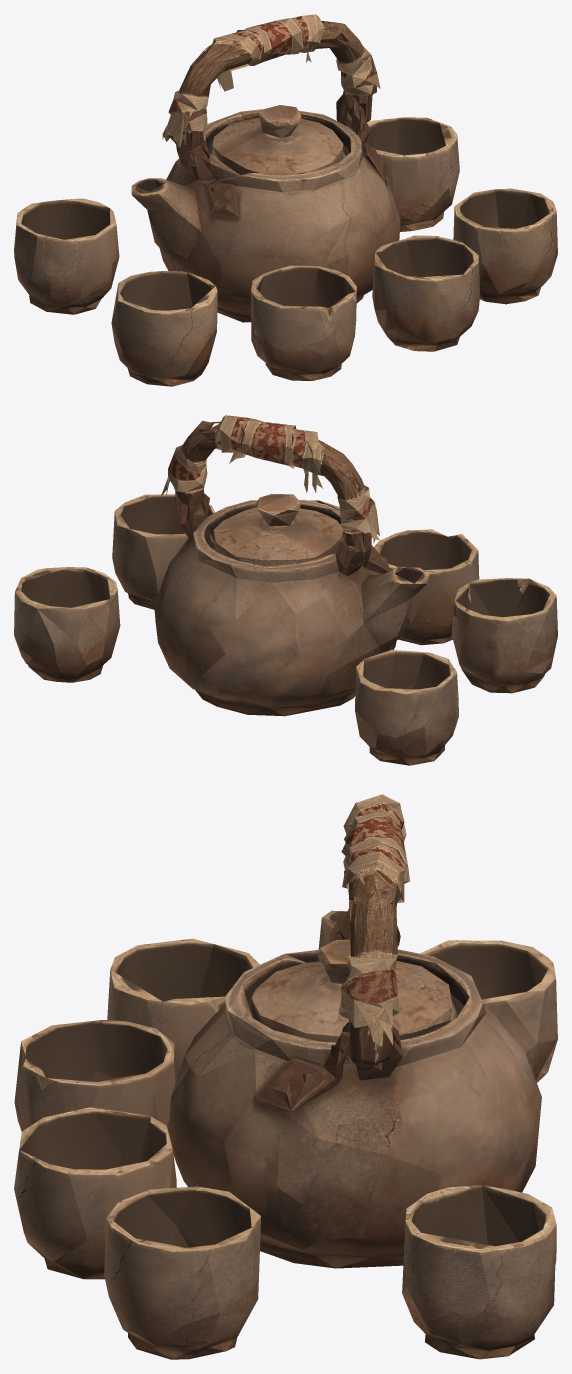
File: teaware.glb
The picture shows the model from 3 angles, top to bottom: view 1: azimuth 30°, elevation 25°; view 2: azimuth 150°, elevation 25°; view 3: azimuth 270°, elevation 25°; orthographic projection. The views are drawn at different scales.
Visible parts, largest first — view 1: output_unwrapped; view 2: output_unwrapped; view 3: output_unwrapped.
Boxes of the visible parts, <box> form: output_unwrapped: <box>14,14,557,386</box>; output_unwrapped: <box>14,415,557,765</box>; output_unwrapped: <box>14,794,557,1359</box>.
Bounding box in the file's own units: 0.3463 × 0.2 × 0.2535.
1 material, 1 textured.
